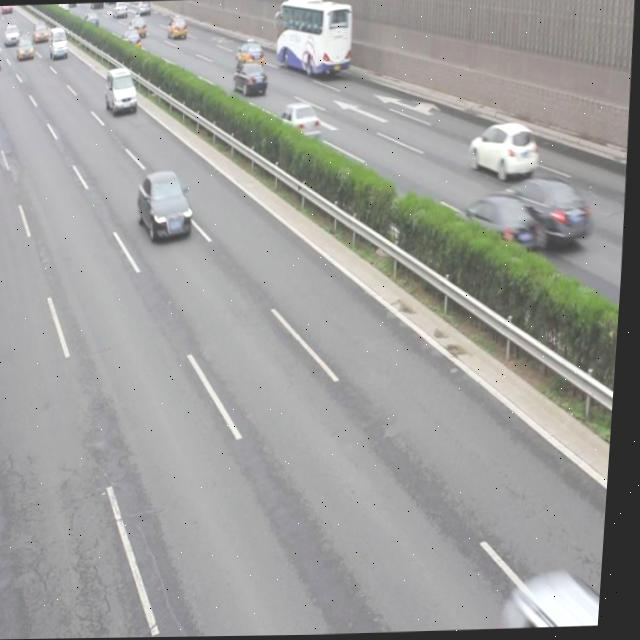car: (505, 173, 595, 247), (455, 195, 539, 259), (466, 121, 541, 180), (136, 171, 196, 241), (275, 102, 323, 142), (233, 60, 268, 95), (236, 38, 266, 67), (119, 26, 142, 51), (167, 15, 188, 40), (127, 16, 148, 38)
truck: (104, 66, 138, 114), (48, 26, 70, 58)
van: (270, 0, 355, 76)
